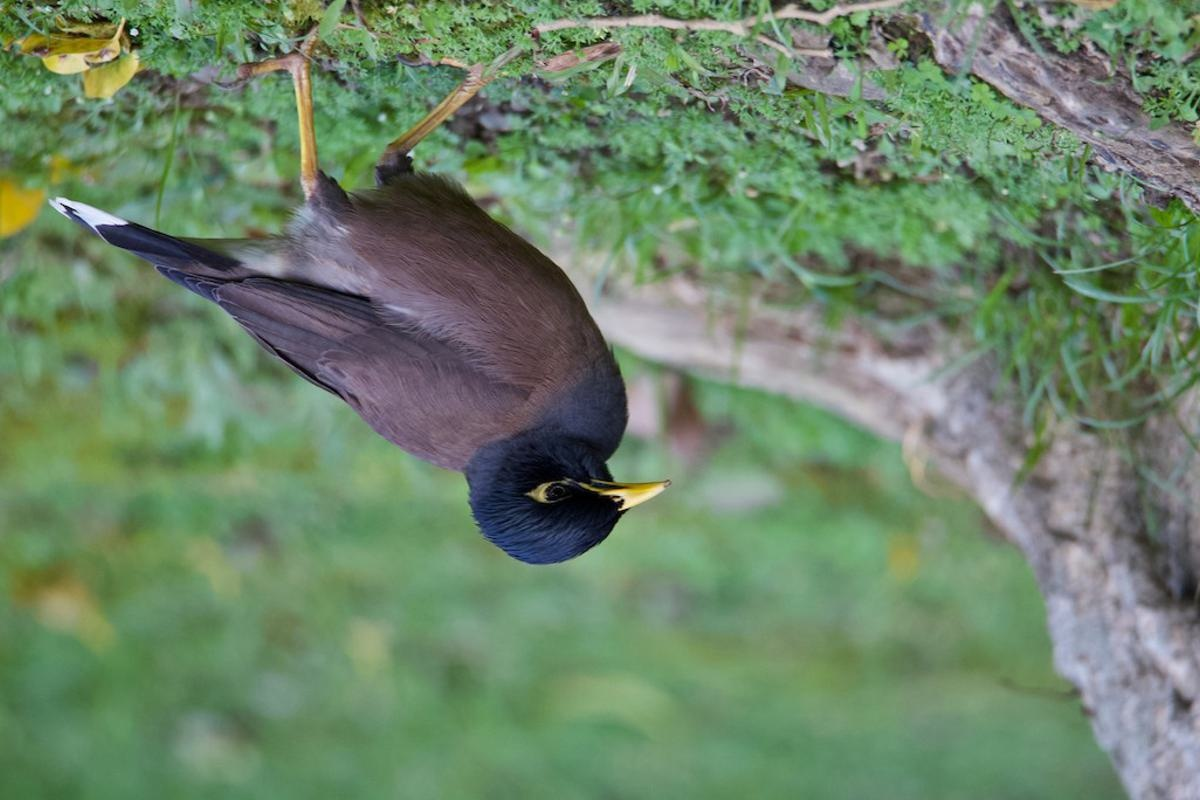myna: (74, 92, 681, 567)
